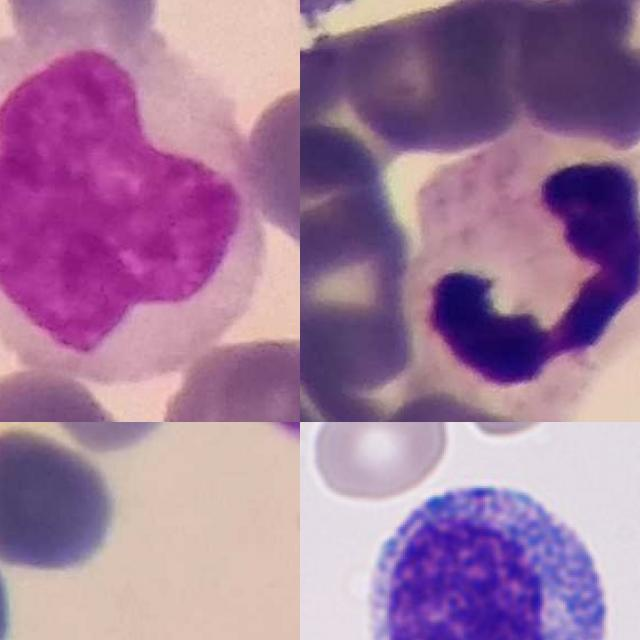Lymphocyte: (350, 470, 622, 640)
Monocyte: (0, 16, 264, 386)
Neutrophil: (412, 133, 640, 422)
RBC: (307, 422, 451, 505)
